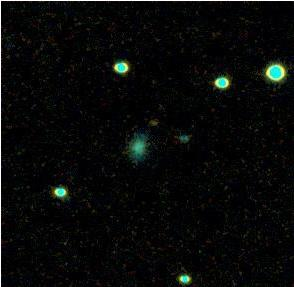star: (138, 108, 168, 138)
